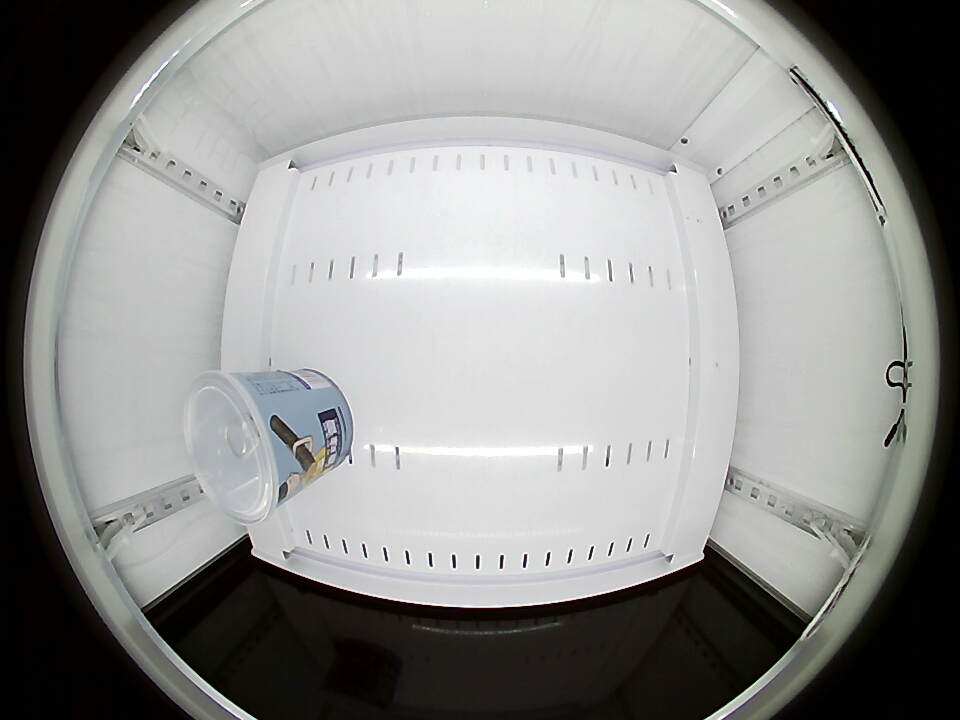haitai: (182, 371, 309, 528)
